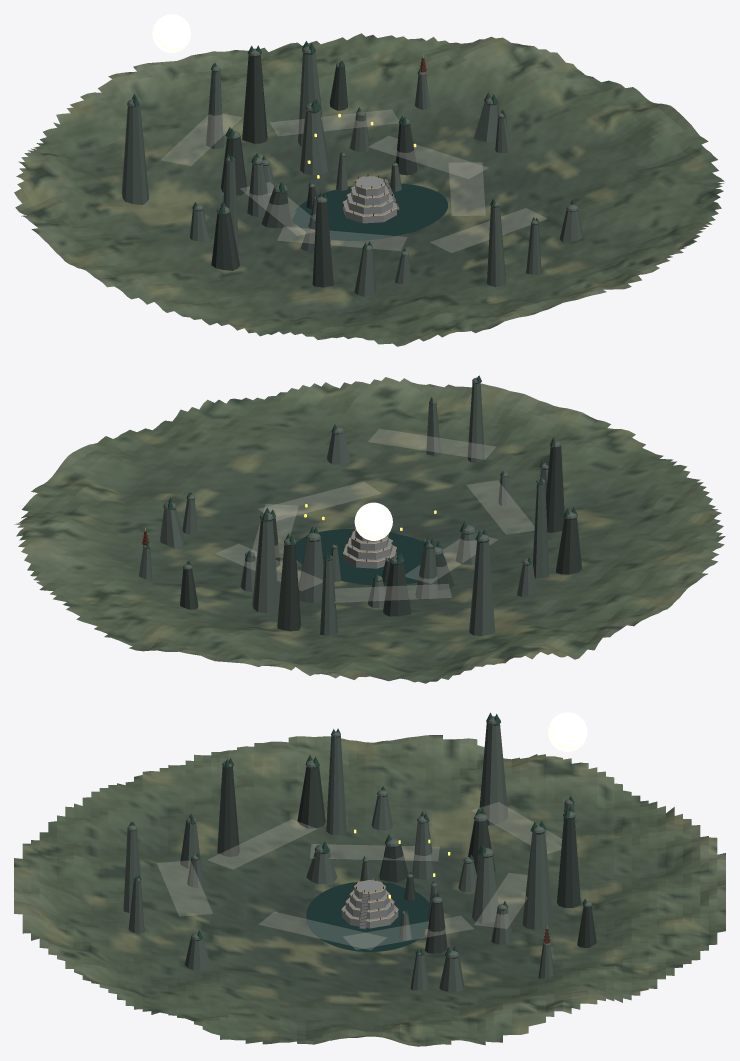
File: env_tianmu.glb
3 views of the same model, one above another, from view 1: azimuth 30°, elevation 25°; view 2: azimuth 150°, elevation 25°; view 3: azimuth 270°, elevation 25° (orthographic). The views are drawn at different scales.
Visible parts, largest first — view 1: env_terrain_vc, env_peak, env_mist, env_peak_dark, env_water, env_cr_stone, env_moon, env_pine; view 2: env_terrain_vc, env_peak, env_mist, env_peak_dark, env_water, env_cr_stone, env_moon, env_pine; view 3: env_terrain_vc, env_peak, env_mist, env_peak_dark, env_water, env_cr_stone, env_moon, env_pine.
Part boxes in pixels (bbox=[...]): env_terrain_vc: bbox=[14, 33, 724, 346]; env_peak: bbox=[121, 45, 583, 296]; env_mist: bbox=[161, 110, 546, 252]; env_peak_dark: bbox=[211, 55, 417, 287]; env_water: bbox=[292, 183, 447, 240]; env_cr_stone: bbox=[343, 176, 399, 223]; env_moon: bbox=[152, 14, 191, 52]; env_pine: bbox=[132, 41, 575, 251]; env_terrain_vc: bbox=[14, 377, 725, 683]; env_peak: bbox=[139, 377, 577, 635]; env_mist: bbox=[216, 429, 533, 602]; env_peak_dark: bbox=[180, 446, 581, 631]; env_water: bbox=[295, 529, 447, 585]; env_cr_stone: bbox=[343, 526, 396, 568]; env_moon: bbox=[354, 502, 392, 540]; env_pine: bbox=[146, 375, 577, 581]; env_terrain_vc: bbox=[14, 735, 725, 1046]; env_peak: bbox=[123, 716, 592, 991]; env_mist: bbox=[157, 802, 561, 949]; env_peak_dark: bbox=[217, 766, 596, 953]; env_water: bbox=[306, 882, 429, 951]; env_cr_stone: bbox=[341, 880, 398, 929]; env_moon: bbox=[548, 712, 587, 751]; env_pine: bbox=[129, 712, 586, 956].
Bounding box in the file's own units: 144 × 34.44 × 144.
Materials: 5 (5 with a texture image).
